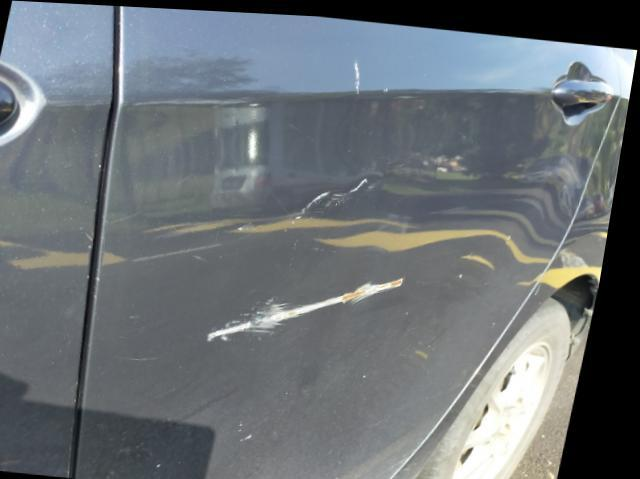scratch: (211, 269, 419, 339), (287, 170, 381, 235)
